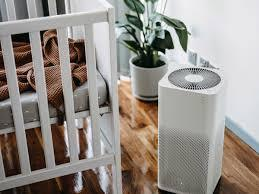Indoor Plant: (118, 0, 188, 102)
air purifier: (159, 66, 222, 194)
railing bed: (0, 2, 123, 194)
